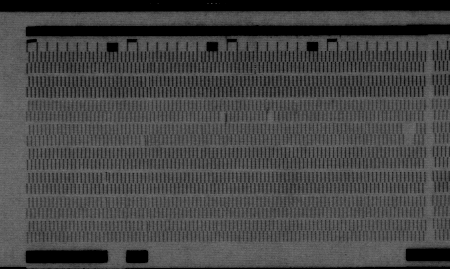Broken hole: (400, 122, 417, 145), (217, 111, 230, 123), (265, 111, 276, 122)
Oblique printing: (138, 135, 151, 148), (100, 171, 111, 184), (250, 62, 260, 76), (141, 220, 151, 232)
